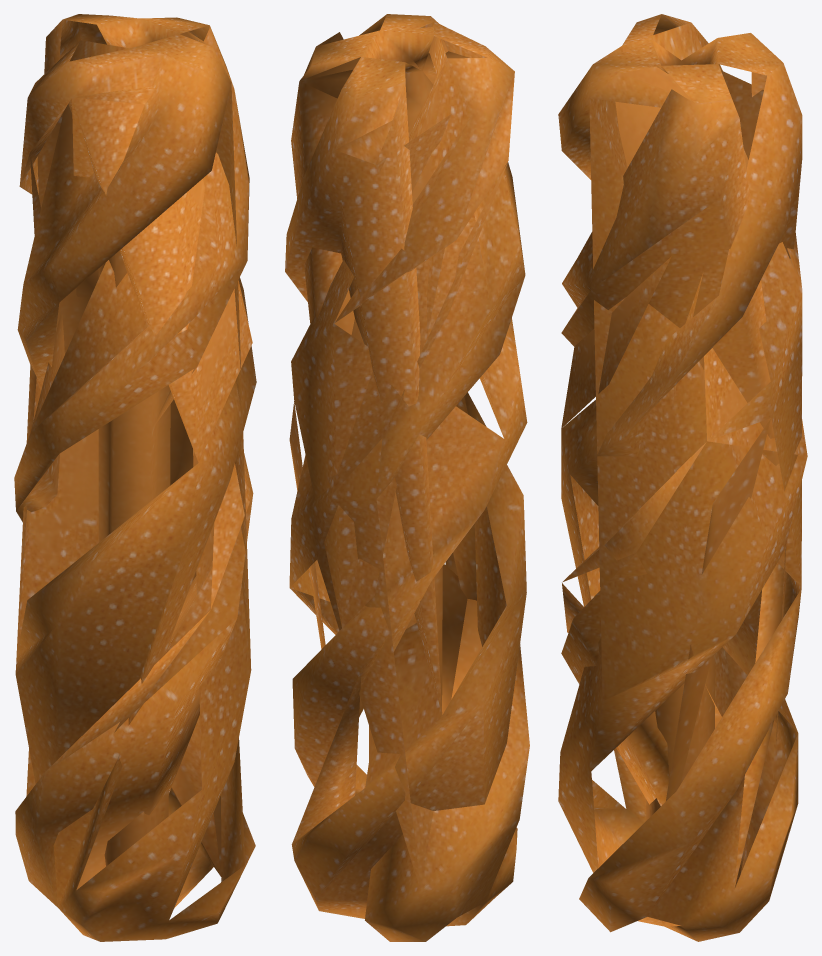
File: source.fbx
3 views of the same model, side by side, from view 1: azimuth 30°, elevation 25°; view 2: azimuth 150°, elevation 25°; view 3: azimuth 270°, elevation 25° (orthographic).
Visible parts, largest first — view 1: Mesh_0; view 2: Mesh_0; view 3: Mesh_0.
Part boxes in pixels (x1=…): Mesh_0: x1=14, y1=14, x2=256, y2=941; Mesh_0: x1=285, y1=14, x2=529, y2=941; Mesh_0: x1=558, y1=14, x2=807, y2=941.
Bounding box in the file's own units: 4.58 × 18 × 4.67.
Materials: 1 (1 with a texture image).
